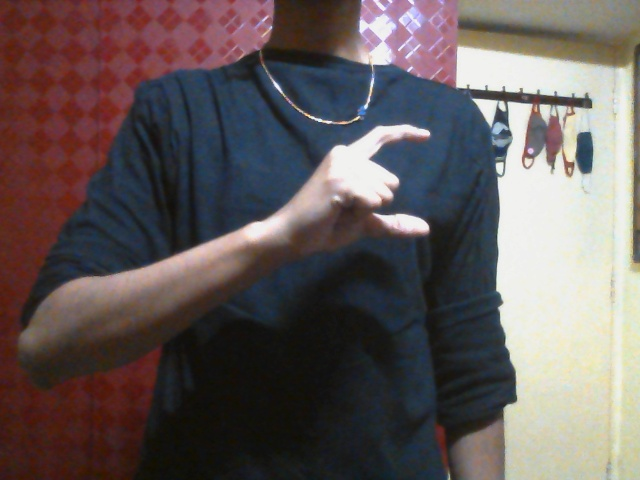C: (280, 124, 432, 266)
